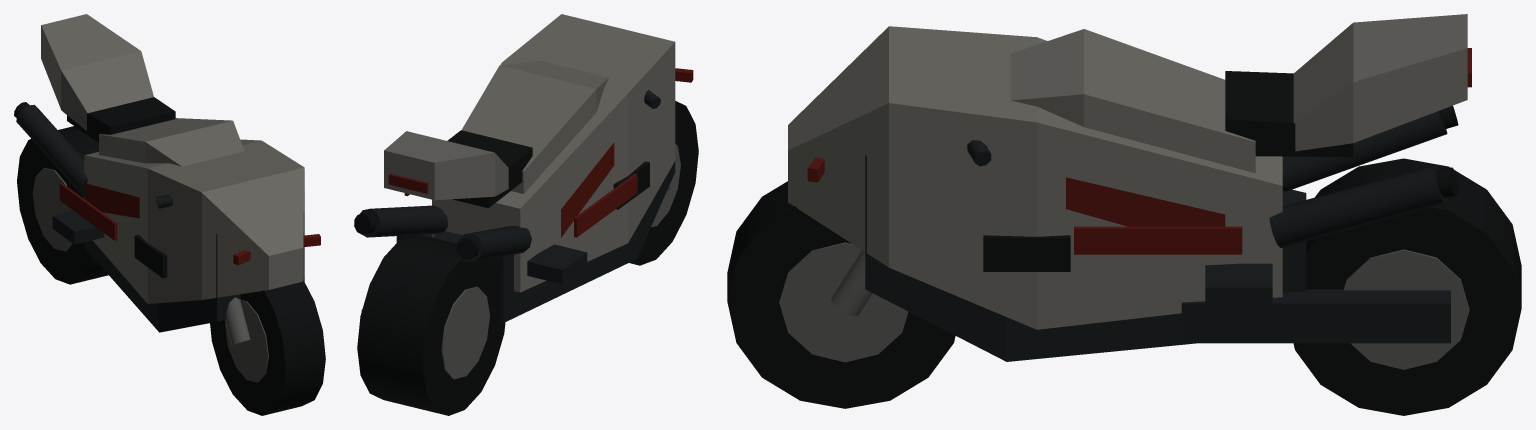
3 renders of one model, left to right at view 1: azimuth 30°, elevation 25°; view 2: azimuth 150°, elevation 25°; view 3: azimuth 270°, elevation 25°, orthographic. The views are drawn at different scales.
Parts seen in each view (by area): view 1: motorcycle-fleet-armor, front-wheel-fleet-rubber, motorcycle-fleet-machine, rear-wheel-fleet-rubber, motorcycle-fleet-rubber, motorcycle-fleet-red, front-wheel-fleet-edge, rear-wheel-fleet-edge, steering-fleet-edge; view 2: motorcycle-fleet-armor, rear-wheel-fleet-rubber, motorcycle-fleet-machine, motorcycle-fleet-red, motorcycle-fleet-rubber, front-wheel-fleet-rubber, rear-wheel-fleet-edge, front-wheel-fleet-edge; view 3: motorcycle-fleet-armor, motorcycle-fleet-machine, rear-wheel-fleet-rubber, front-wheel-fleet-rubber, motorcycle-fleet-rubber, motorcycle-fleet-red, front-wheel-fleet-edge, rear-wheel-fleet-edge, steering-fleet-edge.
Boxes of the visible parts, left/top/right/bottom form: motorcycle-fleet-armor: left=41, top=14, right=304, bottom=303; front-wheel-fleet-rubber: left=210, top=280, right=325, bottom=415; motorcycle-fleet-machine: left=16, top=104, right=304, bottom=332; rear-wheel-fleet-rubber: left=17, top=126, right=108, bottom=284; motorcycle-fleet-rubber: left=14, top=97, right=175, bottom=278; motorcycle-fleet-red: left=59, top=183, right=320, bottom=265; front-wheel-fleet-edge: left=225, top=300, right=268, bottom=382; rear-wheel-fleet-edge: left=32, top=167, right=72, bottom=251; steering-fleet-edge: left=225, top=297, right=250, bottom=344; motorcycle-fleet-armor: left=384, top=14, right=675, bottom=292; rear-wheel-fleet-rubber: left=357, top=234, right=505, bottom=415; motorcycle-fleet-machine: left=360, top=161, right=675, bottom=322; motorcycle-fleet-red: left=388, top=68, right=693, bottom=237; motorcycle-fleet-rubber: left=354, top=130, right=649, bottom=259; front-wheel-fleet-rubber: left=629, top=101, right=698, bottom=265; rear-wheel-fleet-edge: left=441, top=286, right=489, bottom=379; front-wheel-fleet-edge: left=651, top=144, right=680, bottom=227; motorcycle-fleet-armor: left=788, top=14, right=1467, bottom=329; motorcycle-fleet-machine: left=865, top=111, right=1450, bottom=361; rear-wheel-fleet-rubber: left=1293, top=158, right=1521, bottom=415; front-wheel-fleet-rubber: left=727, top=181, right=955, bottom=408; motorcycle-fleet-rubber: left=983, top=71, right=1458, bottom=271; motorcycle-fleet-red: left=807, top=48, right=1471, bottom=254; front-wheel-fleet-edge: left=779, top=242, right=908, bottom=362; rear-wheel-fleet-edge: left=1343, top=249, right=1469, bottom=369; steering-fleet-edge: left=831, top=250, right=872, bottom=316.
Size of the model in its own units: 4.29 by 6.24 by 12.37.
